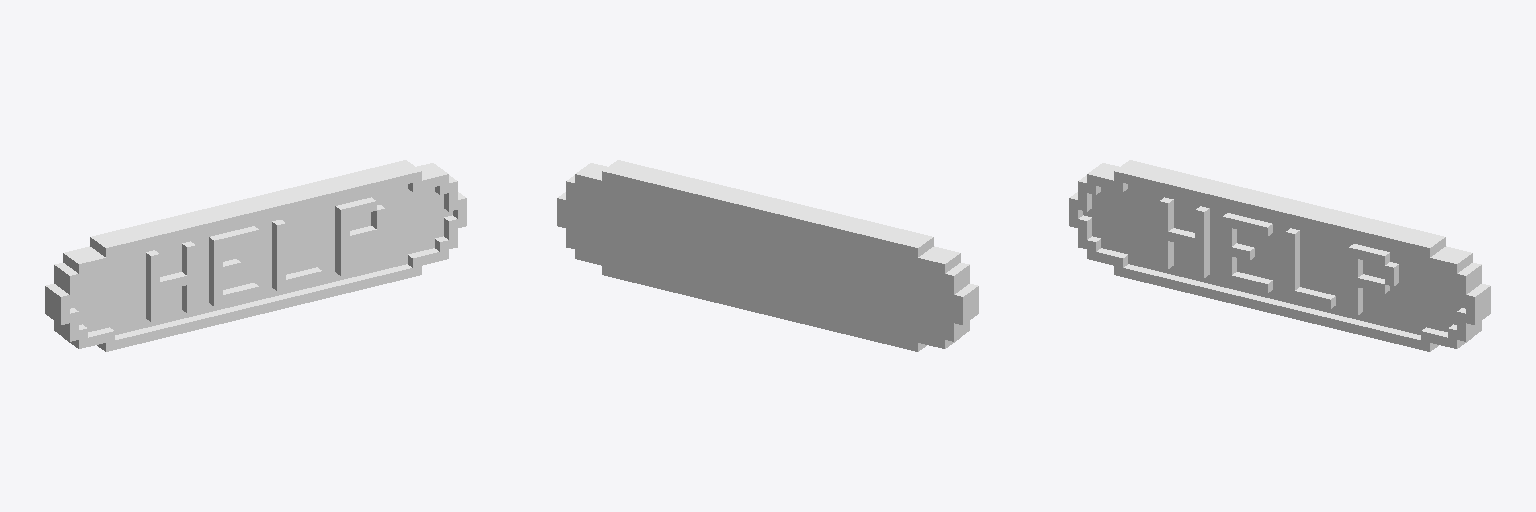
The model's file is ButtonsHelp-1.obj.
3 views of the same model, side by side, from view 1: azimuth 30°, elevation 25°; view 2: azimuth 150°, elevation 25°; view 3: azimuth 330°, elevation 25° (orthographic).
Visible parts, largest first — view 1: ButtonsHelp-1; view 2: ButtonsHelp-1; view 3: ButtonsHelp-1.
Part boxes in pixels (x1,y1,x2,y2): ButtonsHelp-1: (45,160,466,351); ButtonsHelp-1: (557,160,978,351); ButtonsHelp-1: (1069,160,1490,351).
Bounding box in the file's own units: 45 × 11 × 3.